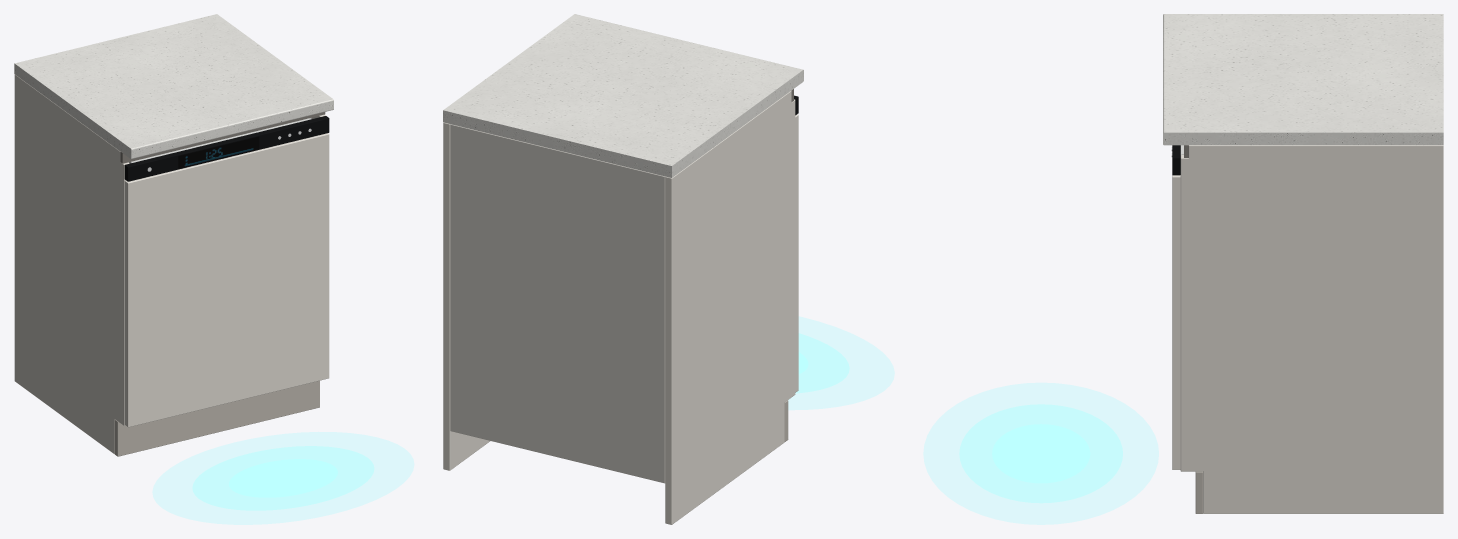
The model's file is dishwasher.glb.
The picture shows the model from 3 angles, left to right: view 1: azimuth 30°, elevation 25°; view 2: azimuth 150°, elevation 25°; view 3: azimuth 270°, elevation 25°; orthographic projection. The views are drawn at different scales.
Visible parts, largest first — view 1: dishwasher_door_panel, dishwasher_carcass, dishwasher_countertop, dishwasher_floor_spot, dishwasher_display, dishwasher_gola; view 2: dishwasher_carcass, dishwasher_countertop, dishwasher_floor_spot, dishwasher_door_panel; view 3: dishwasher_carcass, dishwasher_countertop, dishwasher_floor_spot, dishwasher_door_panel.
Part boxes in pixels (<box>): dishwasher_door_panel: <box>124,116,329,427</box>; dishwasher_carcass: <box>14,74,326,456</box>; dishwasher_countertop: <box>14,14,333,159</box>; dishwasher_floor_spot: <box>152,432,413,524</box>; dishwasher_display: <box>178,136,259,168</box>; dishwasher_gola: <box>120,112,325,163</box>; dishwasher_carcass: <box>443,90,795,524</box>; dishwasher_countertop: <box>443,14,803,177</box>; dishwasher_floor_spot: <box>788,316,894,409</box>; dishwasher_door_panel: <box>794,95,798,392</box>; dishwasher_carcass: <box>1180,145,1443,513</box>; dishwasher_countertop: <box>1163,14,1443,145</box>; dishwasher_floor_spot: <box>923,383,1158,524</box>; dishwasher_door_panel: <box>1172,145,1180,469</box>.
Size of the model in its own units: 0.72 by 0.9 by 1.11.
Materials: 20 (2 with a texture image).
